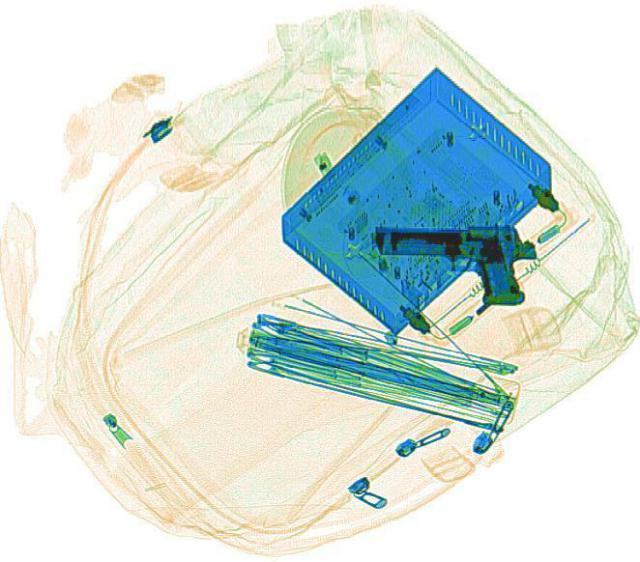Gun: (372, 224, 536, 302)
